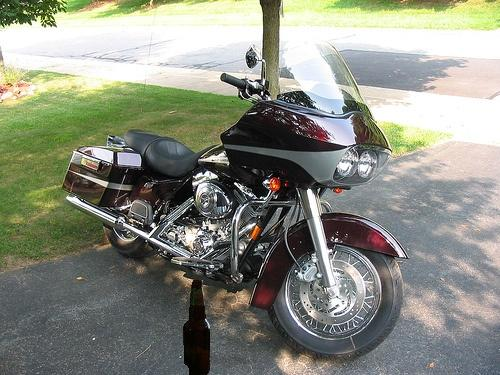tampered: (184, 281, 210, 375)
